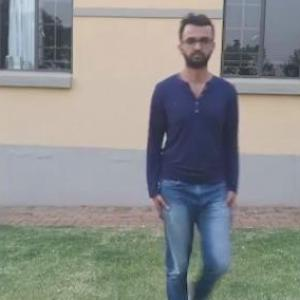follow: (149, 15, 245, 299)
